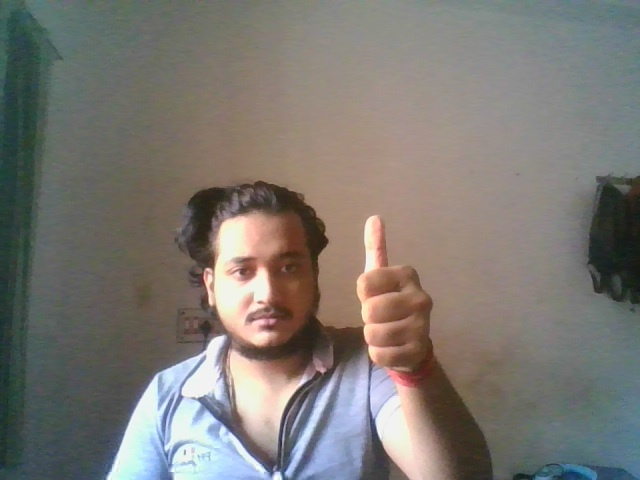ThumbsUp: (355, 213, 434, 370)
